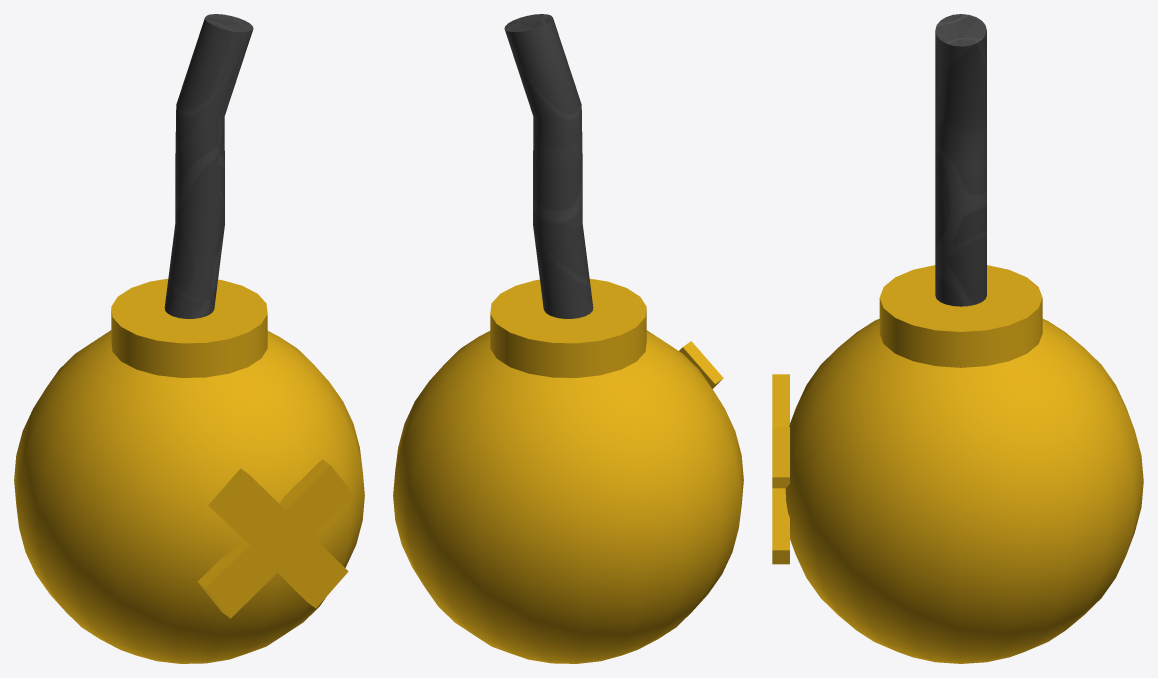
File: Proj_Bomb_Boss.fbx
3 renders of one model, left to right at view 1: azimuth 30°, elevation 25°; view 2: azimuth 150°, elevation 25°; view 3: azimuth 270°, elevation 25°, orthographic. The views are drawn at different scales.
Visible parts, largest first — view 1: Proj_Bomb_Boss; view 2: Proj_Bomb_Boss; view 3: Proj_Bomb_Boss.
Part boxes in pixels (bbox=[...]): Proj_Bomb_Boss: bbox=[14, 14, 364, 663]; Proj_Bomb_Boss: bbox=[393, 14, 743, 663]; Proj_Bomb_Boss: bbox=[772, 14, 1143, 663].
Size of the model in its own units: 0.8 by 1.55 by 0.8138.
